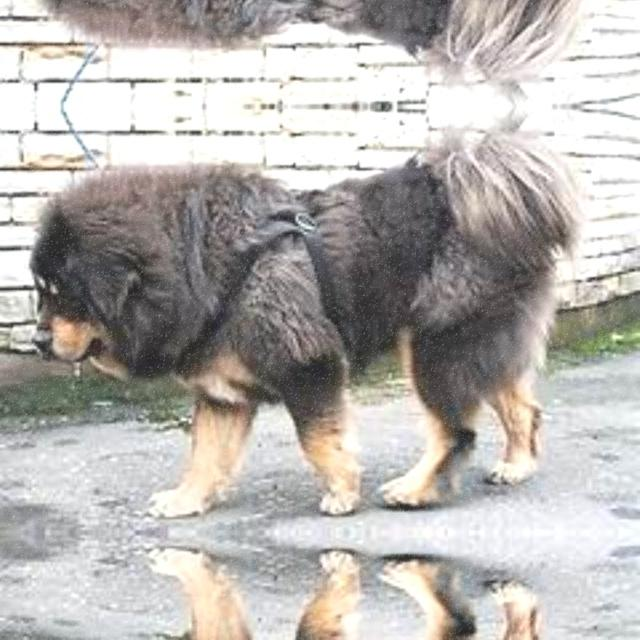dog: (2, 117, 570, 507), (2, 0, 571, 95), (2, 558, 571, 640)
